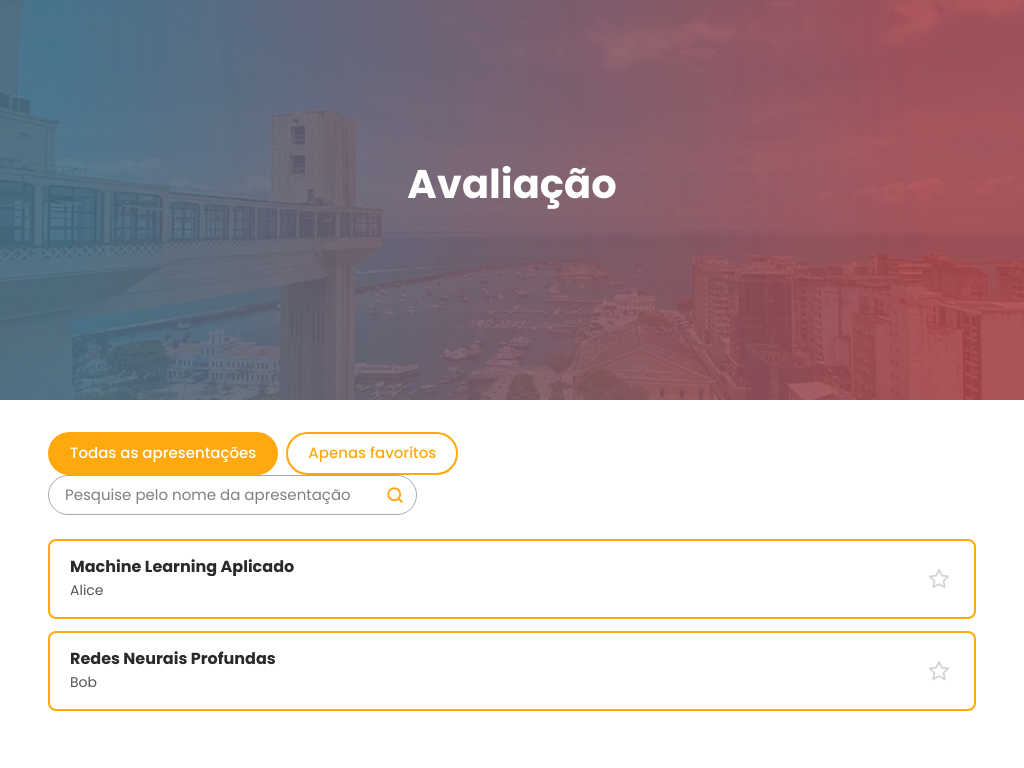
Scenario: AvaliacaoListagemPage › shows empty state on favorites tab when none bookmarked
Expected: the heading "Machine Learning Aplicado" is shown, [70,555,294,578]
Click the tab "Apenas favoritos".
click(372, 453)  # box [286,432,458,474]
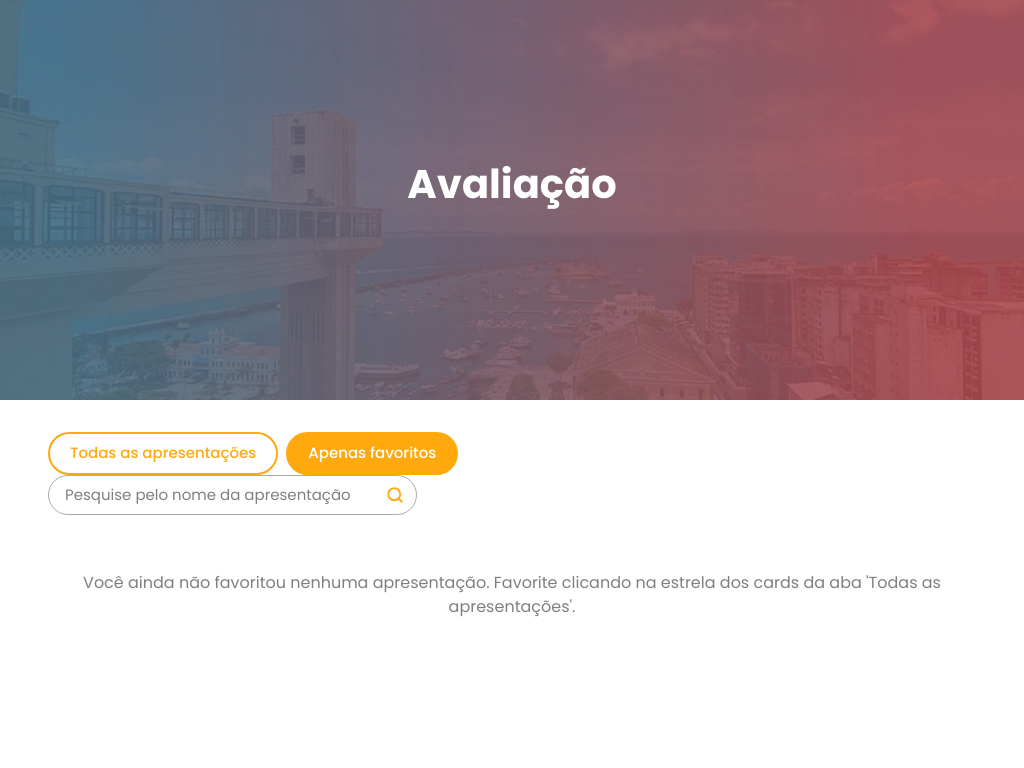
Expected: the text "Você ainda não favoritou nenhuma apresentação" is shown, [83,571,941,618]
